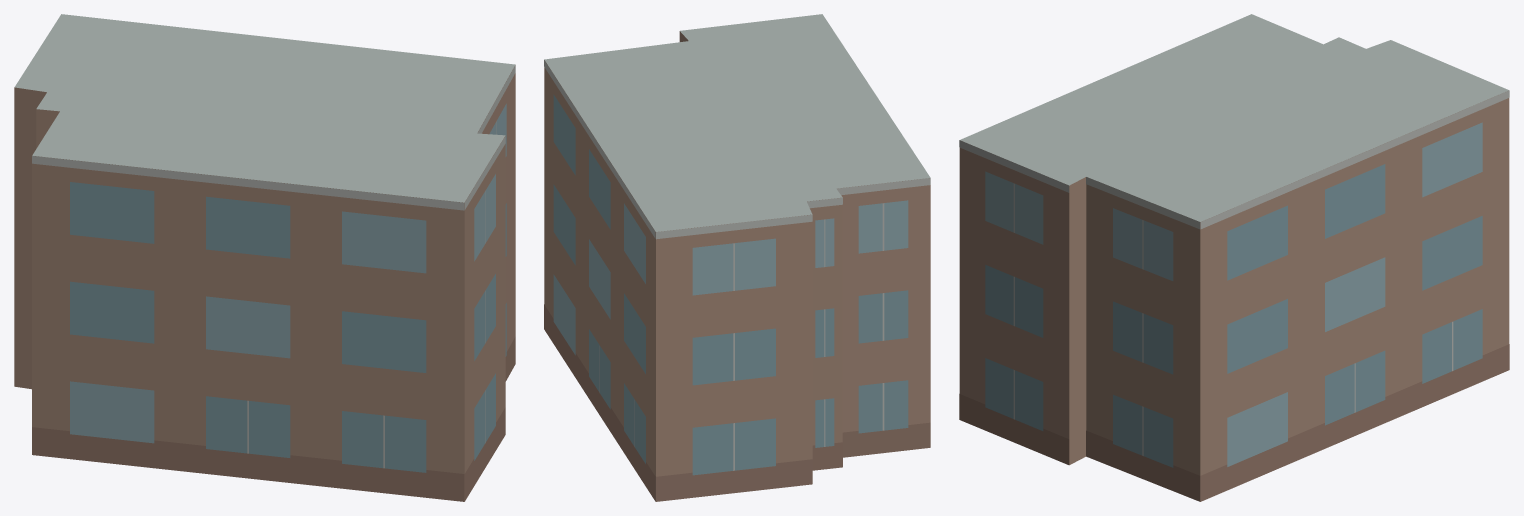
The model's file is survey-upis-32665623.glb.
3 renders of one model, left to right at view 1: azimuth 30°, elevation 25°; view 2: azimuth 150°, elevation 25°; view 3: azimuth 270°, elevation 25°, orthographic. The views are drawn at different scales.
Parts seen in each view (by area): view 1: survey-upis-32665623.tmp; view 2: survey-upis-32665623.tmp; view 3: survey-upis-32665623.tmp.
Part boxes in pixels (x1,y1,x2,y2): survey-upis-32665623.tmp: [14, 14, 515, 501]; survey-upis-32665623.tmp: [544, 14, 930, 501]; survey-upis-32665623.tmp: [959, 14, 1509, 501].
Bounding box in the file's own units: 14.6 × 9.15 × 16.3.
